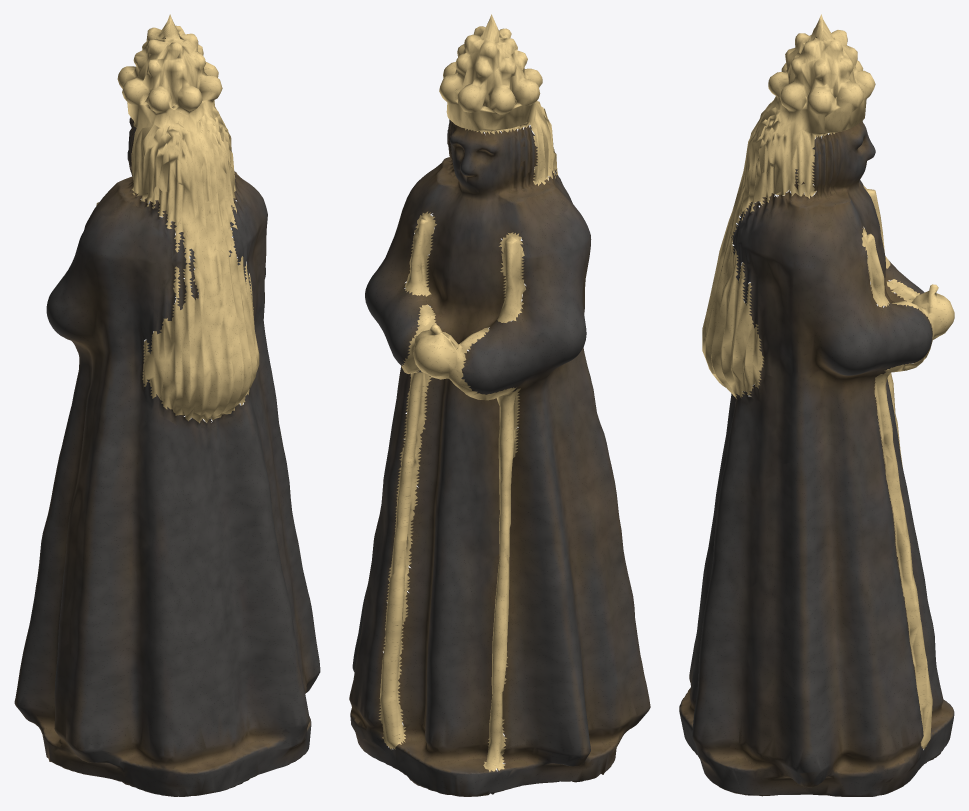
File: queen-black-hd.glb
The picture shows the model from 3 angles, left to right: view 1: azimuth 30°, elevation 25°; view 2: azimuth 150°, elevation 25°; view 3: azimuth 270°, elevation 25°; orthographic projection.
Visible parts, largest first — view 1: Argent Reliquary – Black Queen; view 2: Argent Reliquary – Black Queen; view 3: Argent Reliquary – Black Queen.
Boxes of the visible parts, x1,y1,x2,y2 form: Argent Reliquary – Black Queen: (14, 14, 320, 796); Argent Reliquary – Black Queen: (349, 14, 650, 796); Argent Reliquary – Black Queen: (679, 14, 954, 796).
Size of the model in its own units: 0.5842 by 1.53 by 0.5206.
2 materials, 2 textured.
